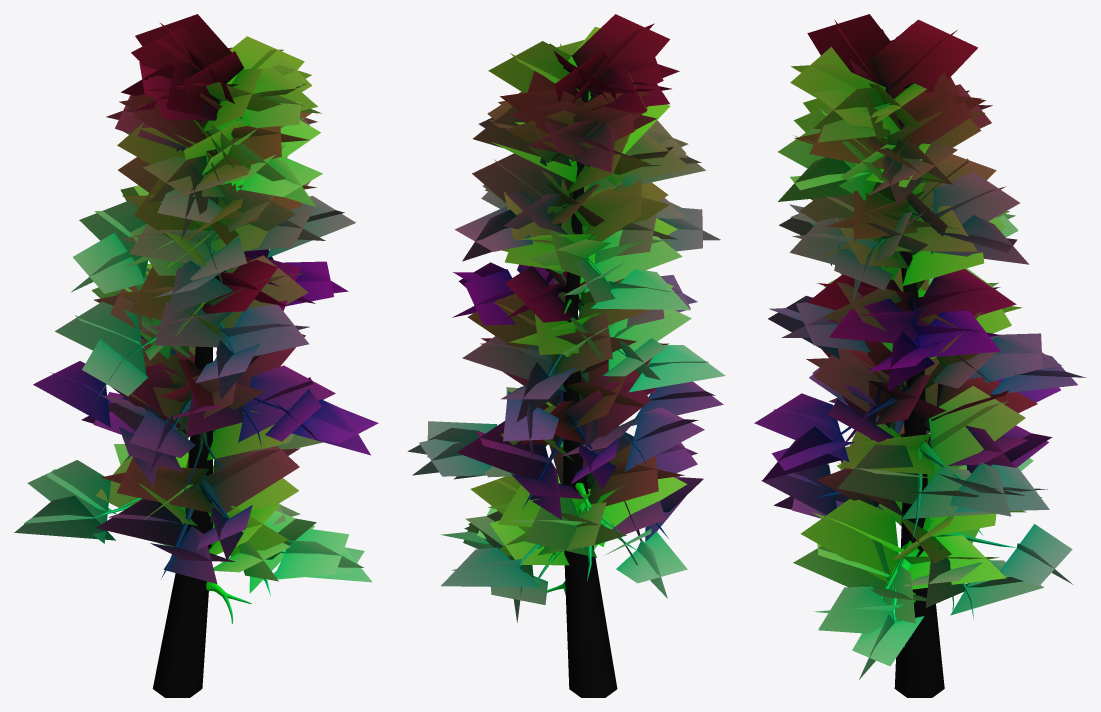
Rendered from M_Pine_1_8.fbx.
3 views of the same model, side by side, from view 1: azimuth 30°, elevation 25°; view 2: azimuth 150°, elevation 25°; view 3: azimuth 270°, elevation 25° (orthographic). The views are drawn at different scales.
Parts seen in each view (by area): view 1: Tree_8; view 2: Tree_8; view 3: Tree_8.
Part boxes in pixels (<box>): Tree_8: <box>14,14,378,697</box>; Tree_8: <box>407,14,725,697</box>; Tree_8: <box>754,14,1086,697</box>.
Size of the model in its own units: 1344 by 2853 by 1290.
